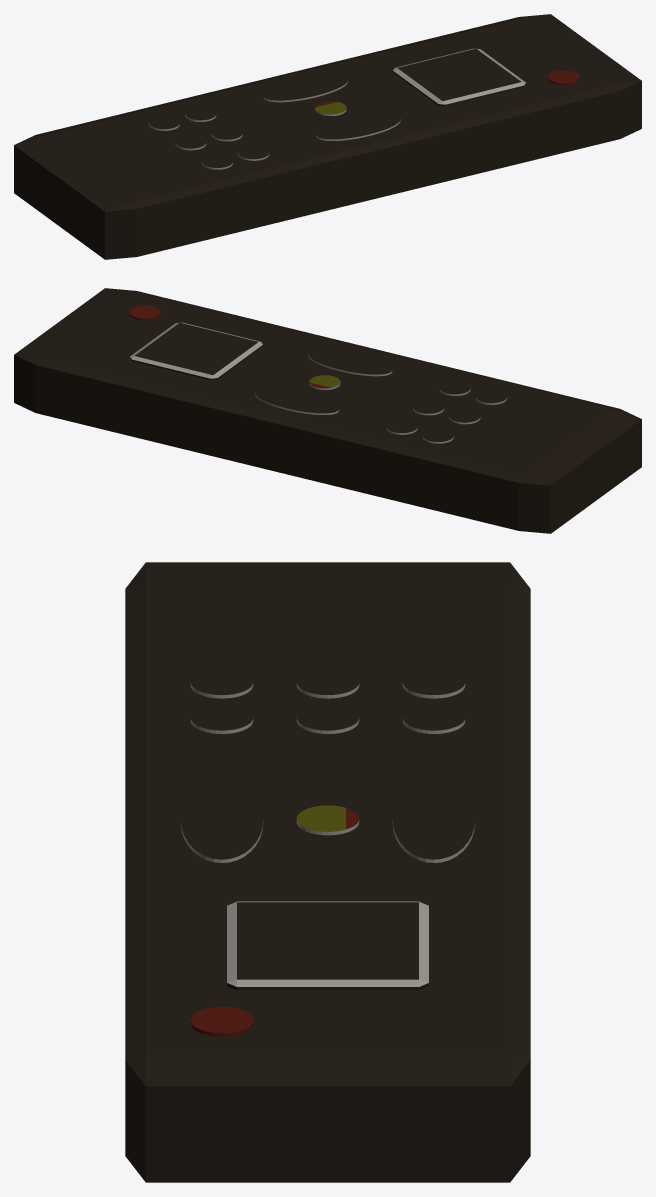
The model's file is RemoteV1.fbx.
3 views of the same model, one above another, from view 1: azimuth 30°, elevation 25°; view 2: azimuth 150°, elevation 25°; view 3: azimuth 270°, elevation 25° (orthographic). The views are drawn at different scales.
Visible parts, largest first — view 1: Cube; view 2: Cube; view 3: Cube.
Part boxes in pixels (<box>): Cube: <box>14,14,641,259</box>; Cube: <box>14,288,641,533</box>; Cube: <box>125,562,530,1182</box>.
Bounding box in the file's own units: 85.28 × 261 × 26.31.
